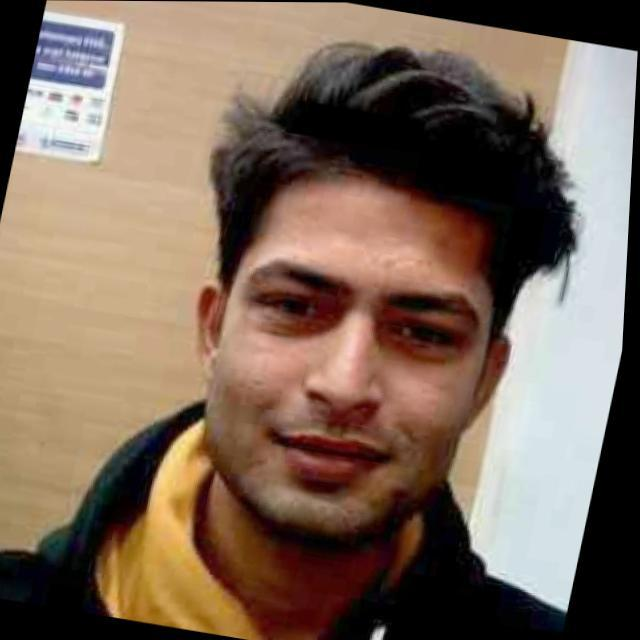Puffy Eyes - v3 Dark Circle: (252, 309, 340, 337), (386, 336, 463, 361)
